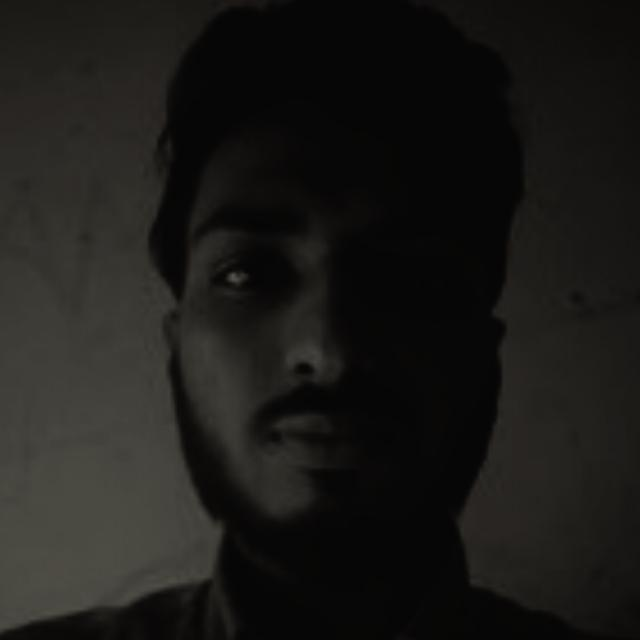Natural: (49, 95, 527, 579)
